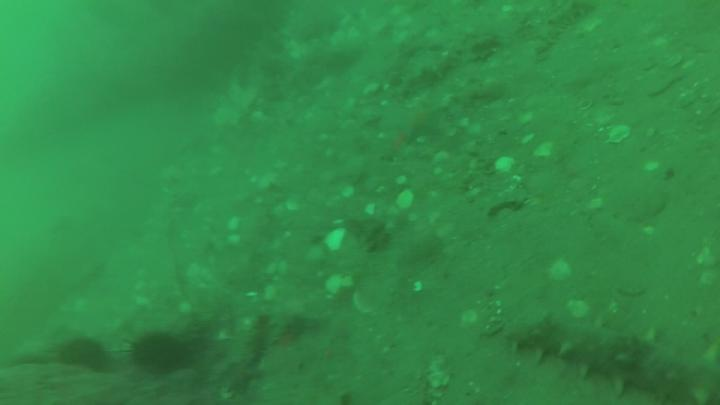echinus: (131, 334, 191, 371), (62, 343, 112, 369)
holothurian: (509, 317, 720, 405), (243, 314, 272, 364)
starfish: (379, 99, 447, 144), (222, 360, 260, 394)
